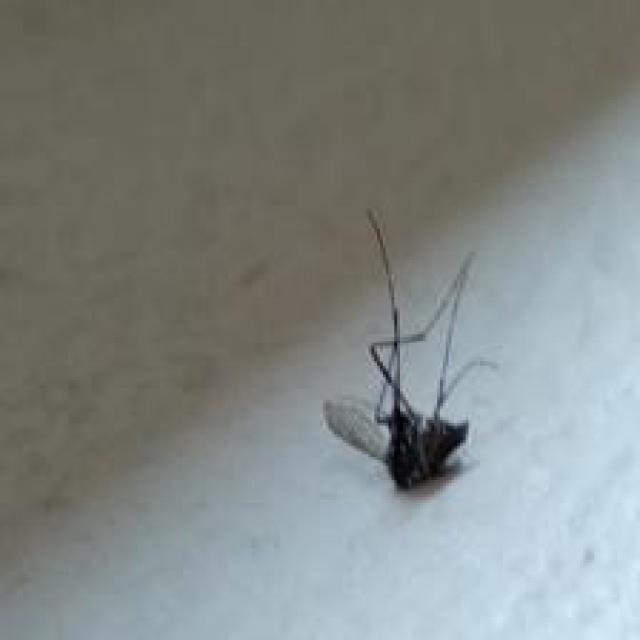Aedes albopictus: (322, 206, 498, 491)
